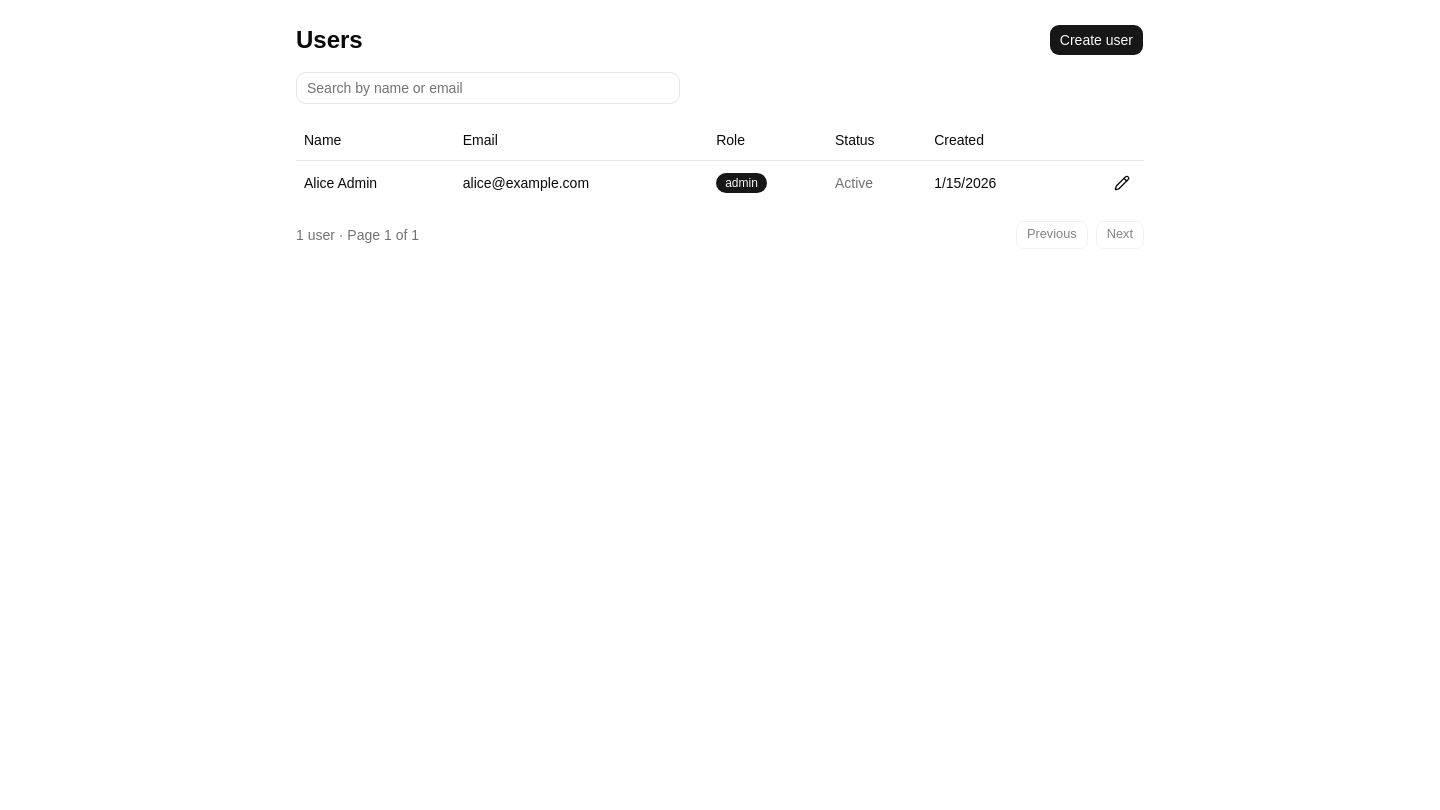
Test: UsersPage › create user dialog › is hidden until the Create user button is clicked, then shown
The width and height of the screenshot is (1440, 810).
Check: the text "Alice Admin" is shown, box [296, 160, 455, 204]
Click the button "Create user": (1096, 40) [1049, 24, 1144, 56]
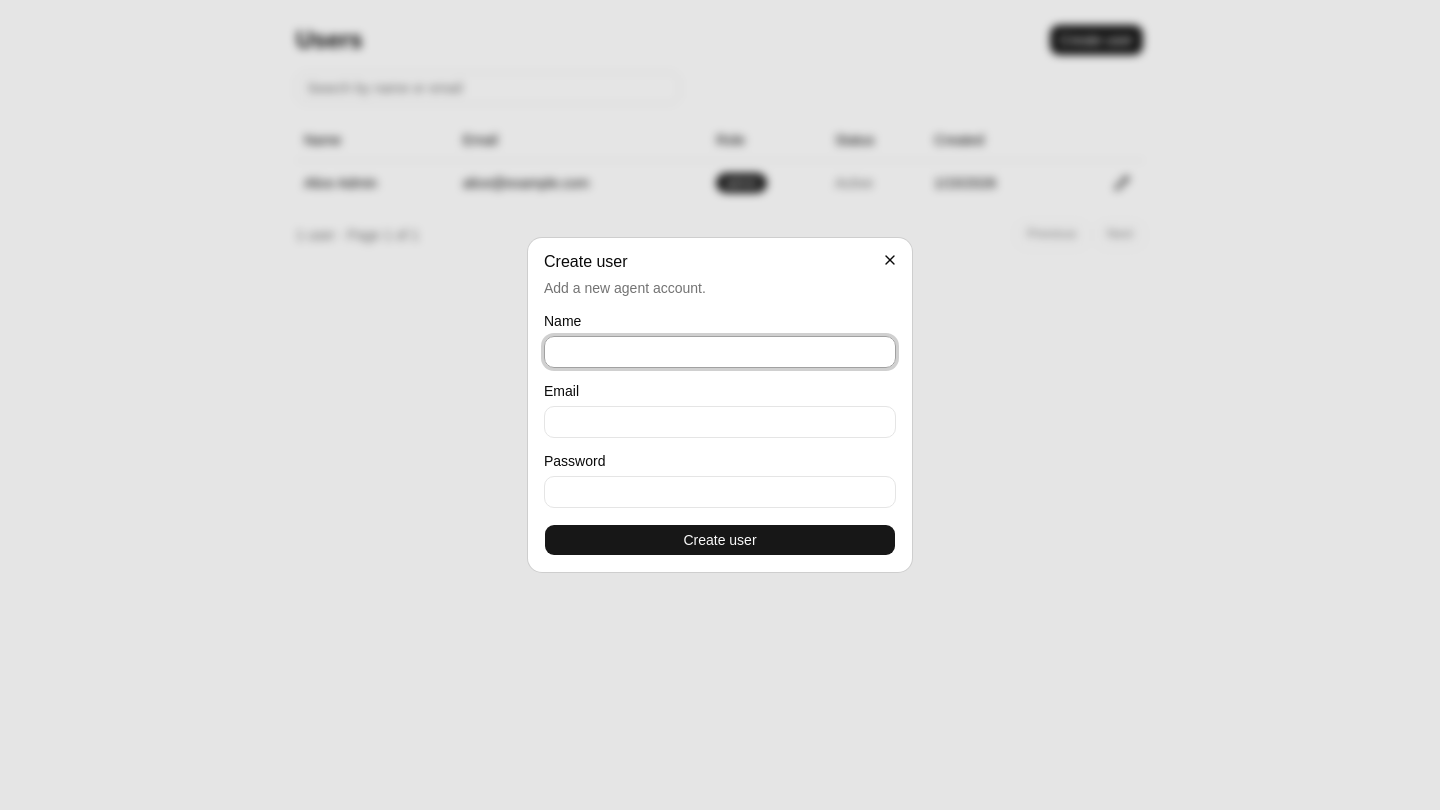
Check: the field labelled "Name" is shown, box [544, 336, 896, 368]
Check: the field labelled "Email" is shown, box [544, 406, 896, 438]
Check: the password field labelled "Password" is shown, box [544, 476, 896, 508]
